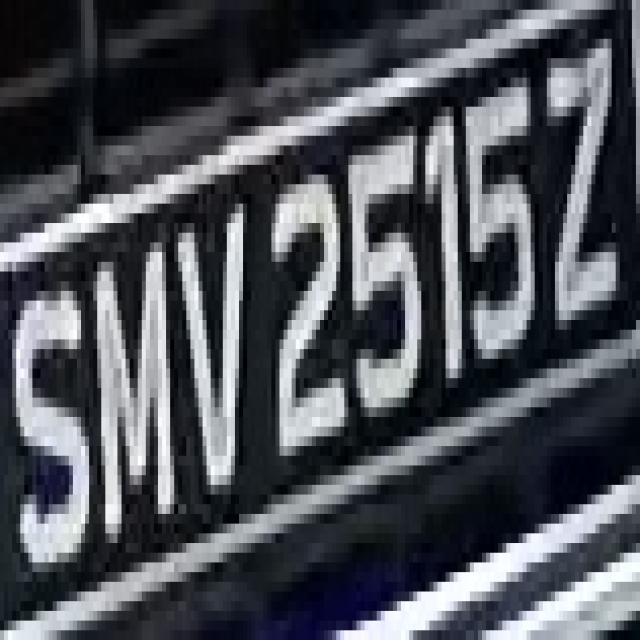1: (417, 97, 478, 417)
2: (255, 146, 357, 466)
5: (458, 68, 543, 378), (341, 97, 422, 417)
M: (81, 223, 182, 543)
S: (4, 252, 89, 592)
V: (162, 164, 263, 524)
Z: (530, 10, 628, 349)
